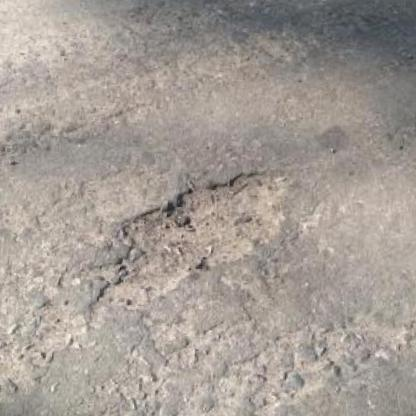pothole: (90, 152, 297, 324)
